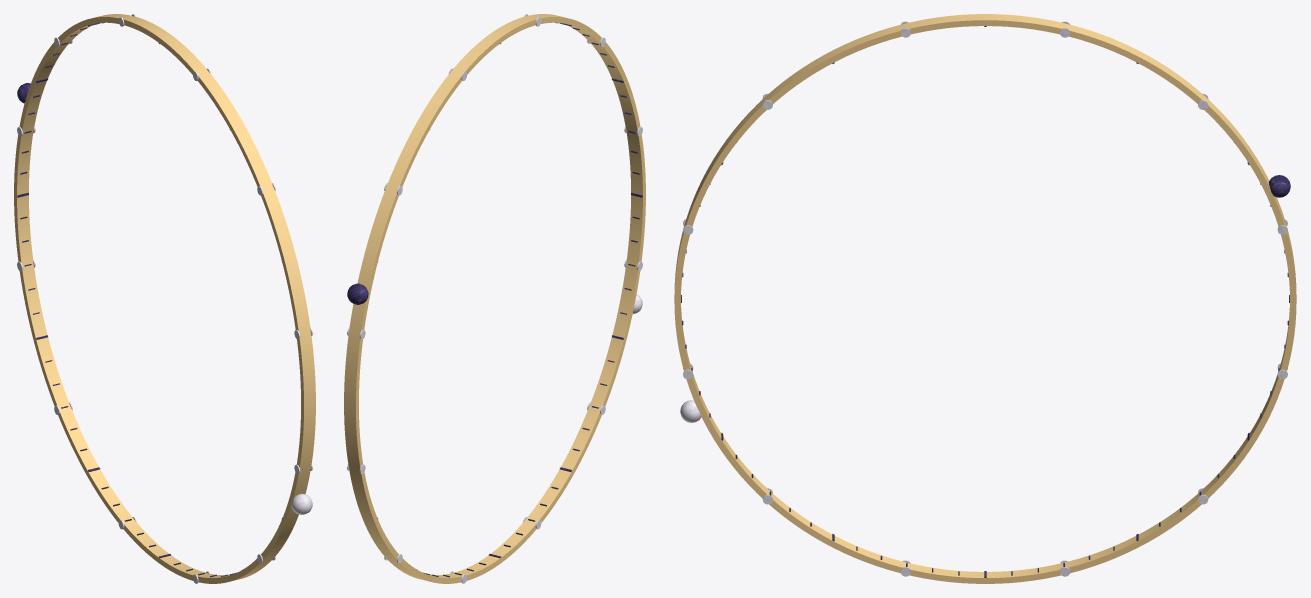
Rendered from HubRing_C.gltf.
The picture shows the model from 3 angles, left to right: view 1: azimuth 30°, elevation 25°; view 2: azimuth 150°, elevation 25°; view 3: azimuth 270°, elevation 25°; orthographic projection. The views are drawn at different scales.
Parts seen in each view (by area): view 1: HubRing_C; view 2: HubRing_C; view 3: HubRing_C.
Part boxes in pixels (box(x1,y1,x2,y2)): HubRing_C: box(14, 14, 315, 583); HubRing_C: box(344, 14, 645, 583); HubRing_C: box(674, 14, 1296, 583).
Size of the model in its own units: 1 by 27.08 by 27.08.
Materials: 3 (2 with a texture image).
